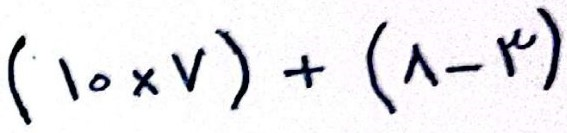character: (215, 27, 253, 110), (367, 21, 397, 116), (7, 35, 31, 127), (497, 28, 539, 77), (537, 6, 560, 90), (403, 43, 440, 87), (171, 48, 205, 95), (284, 55, 325, 89), (58, 58, 80, 102), (131, 67, 160, 98), (89, 73, 113, 93), (446, 65, 483, 77)
